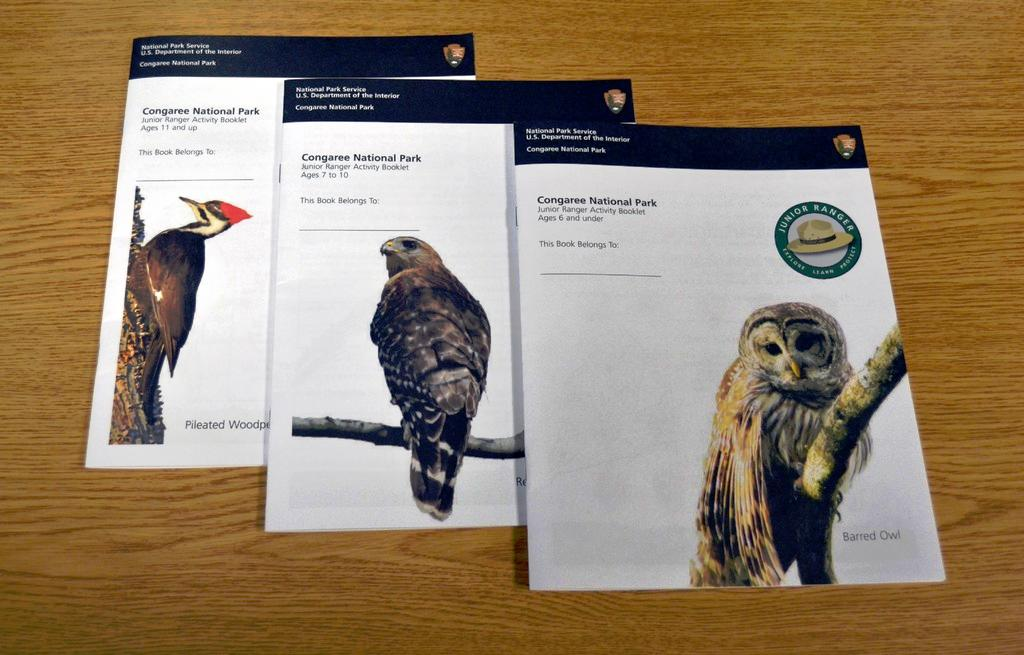Owl: (688, 301, 876, 595)
